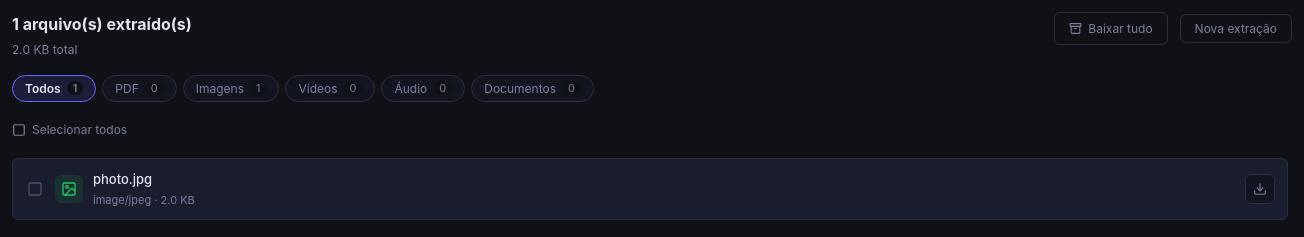
Test: FileList rendering › shows an empty state when the filter matches nothing
Click the button "Vídeos 0": (330, 88) [286, 75, 376, 102]
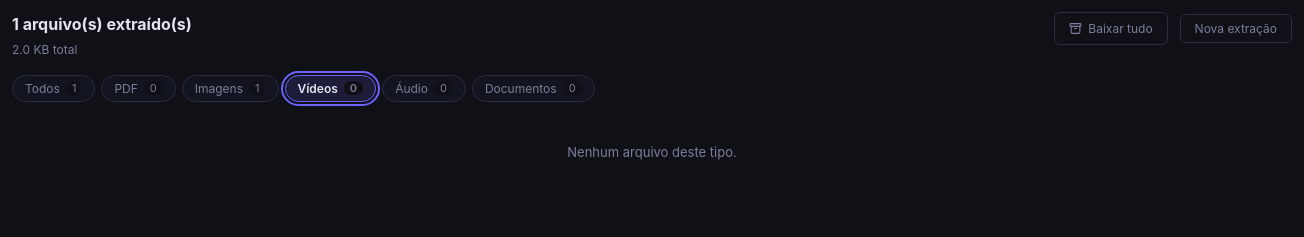
Result: the text "Nenhum arquivo deste tipo." is shown at [567, 144, 737, 160]
